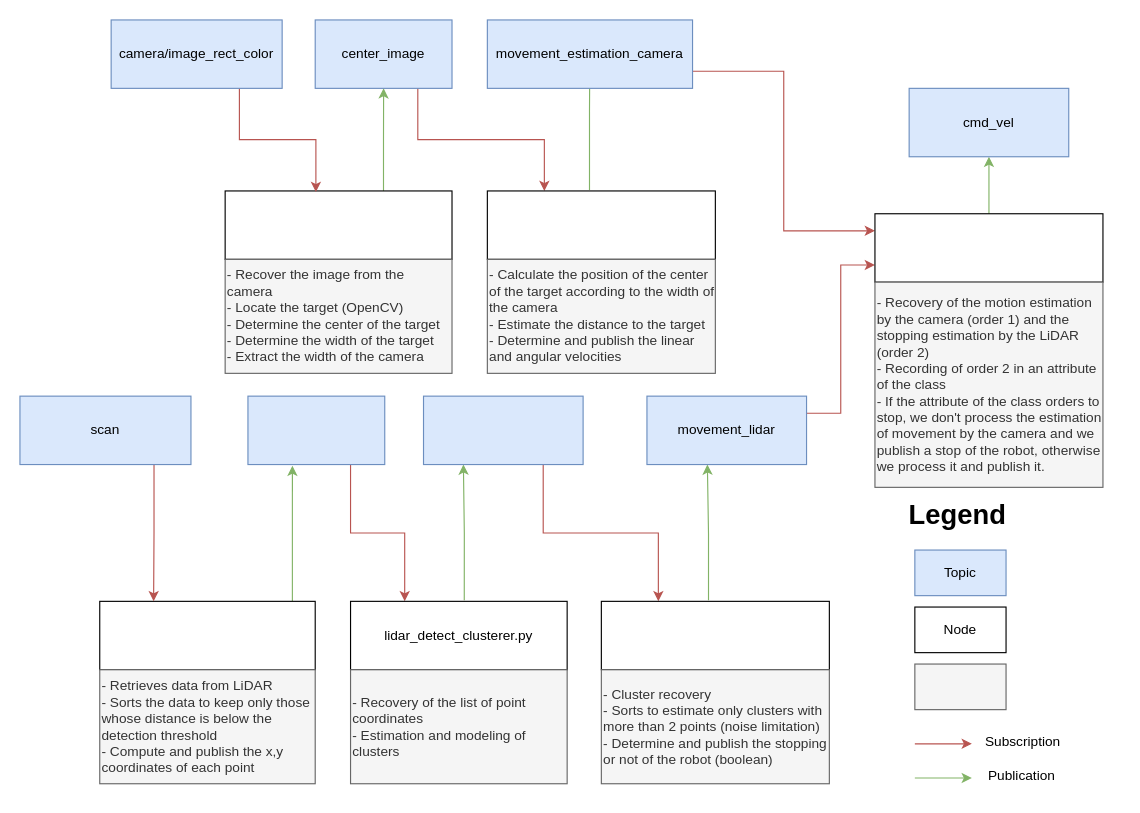
This 1140x813 diagram has some shape labels left out. The centre of each missing label's shape, as x and y in pixels:
"Actions" belongs at (x=960, y=686).
"detect.py" belongs at (x=338, y=224).
"lidar/clusters" belongs at (x=502, y=430).
"lidar/points" belongs at (x=316, y=430).
"lidar_detect_with_clusters.py" belongs at (x=714, y=635).
"lidar_transformer.py" belongs at (x=207, y=635).
"movement.py" belongs at (x=988, y=247).
"movement_camera_estimation.py" belongs at (x=600, y=224).
